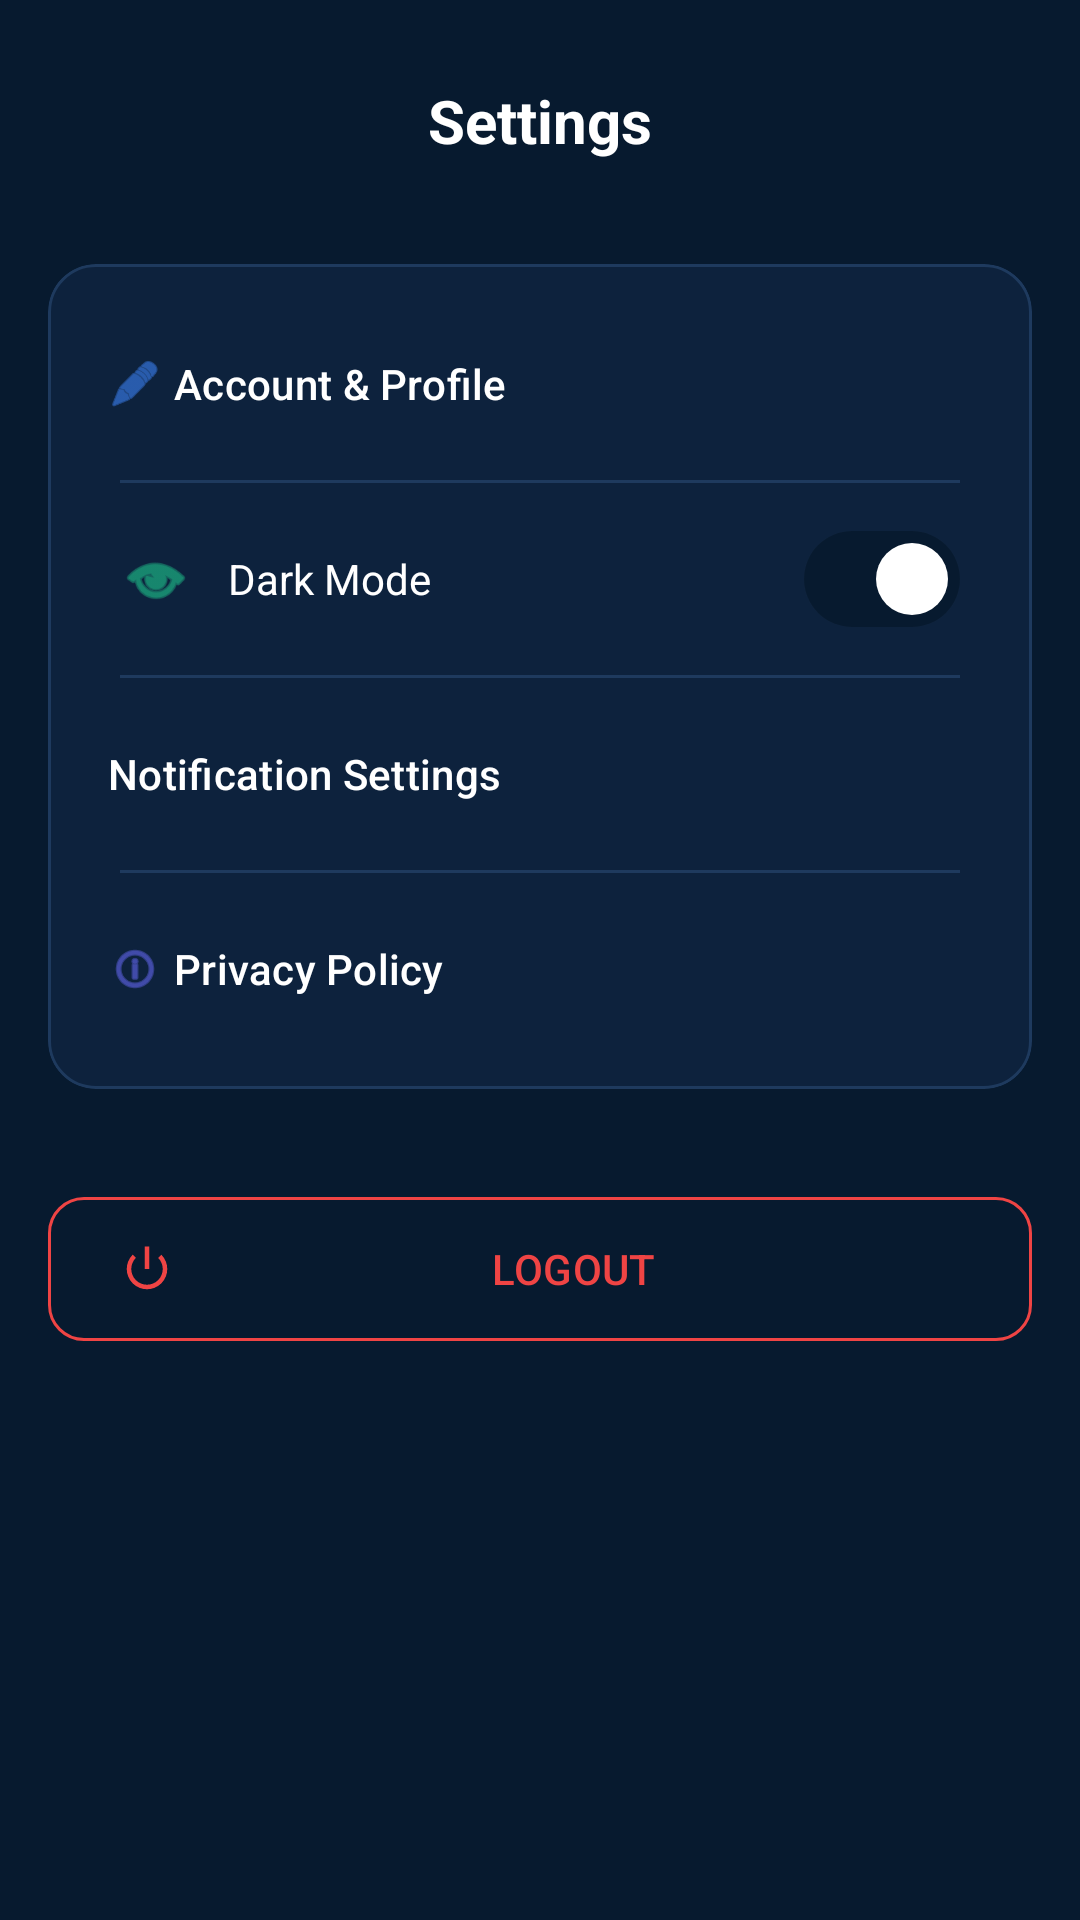

Screen size 1080 × 1920. Icon name, then its center in pixels as (x,y):
view: (156,580)
